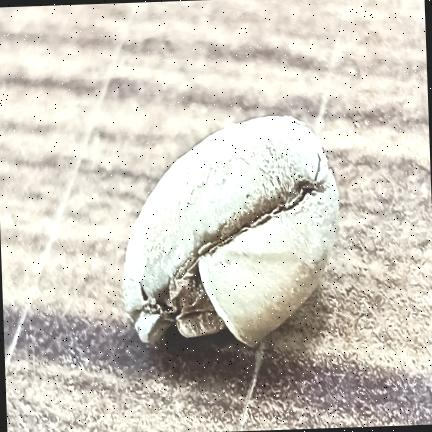cut: (123, 116, 339, 346)
